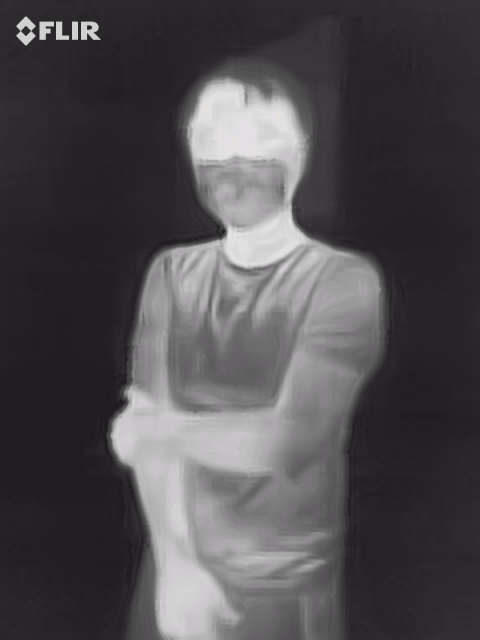head: (172, 54, 318, 230)
